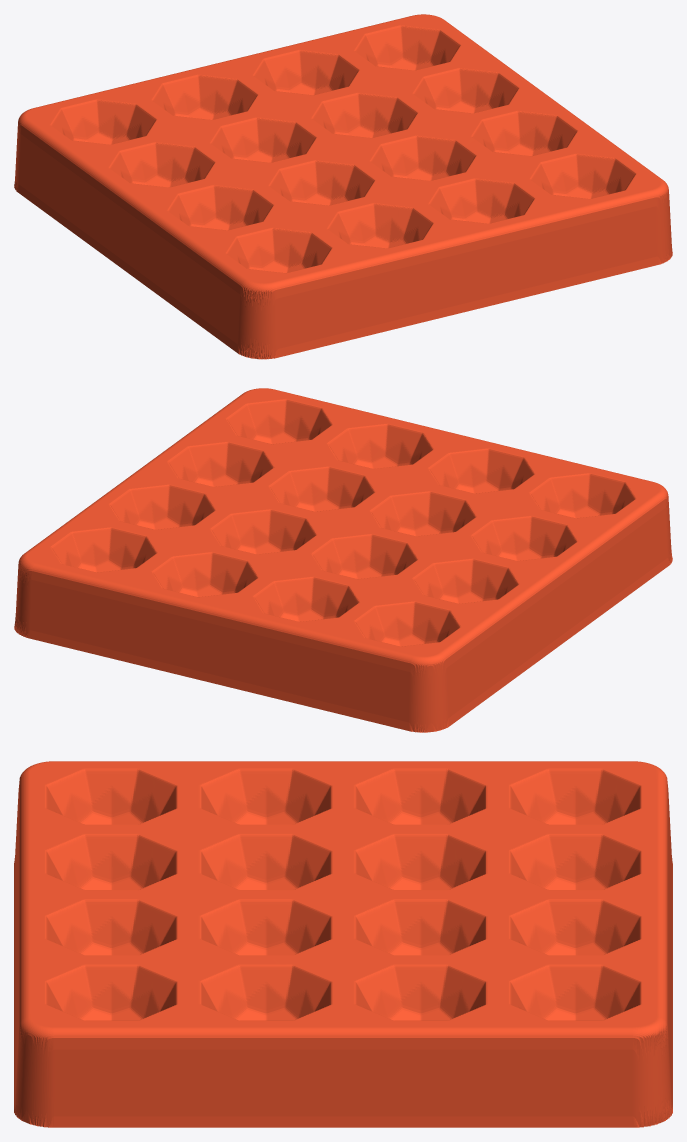
Rendered from mold.glb.
3 renders of one model, top to bottom at view 1: azimuth 30°, elevation 25°; view 2: azimuth 150°, elevation 25°; view 3: azimuth 270°, elevation 25°, orthographic. The views are drawn at different scales.
Visible parts, largest first — view 1: geometry_0; view 2: geometry_0; view 3: geometry_0.
Boxes of the visible parts, left/top/right/bottom form: geometry_0: left=14, top=14, right=672, bottom=359; geometry_0: left=14, top=388, right=672, bottom=732; geometry_0: left=14, top=761, right=672, bottom=1127.
Size of the model in its own units: 0.1486 by 0.0233 by 0.1486.
